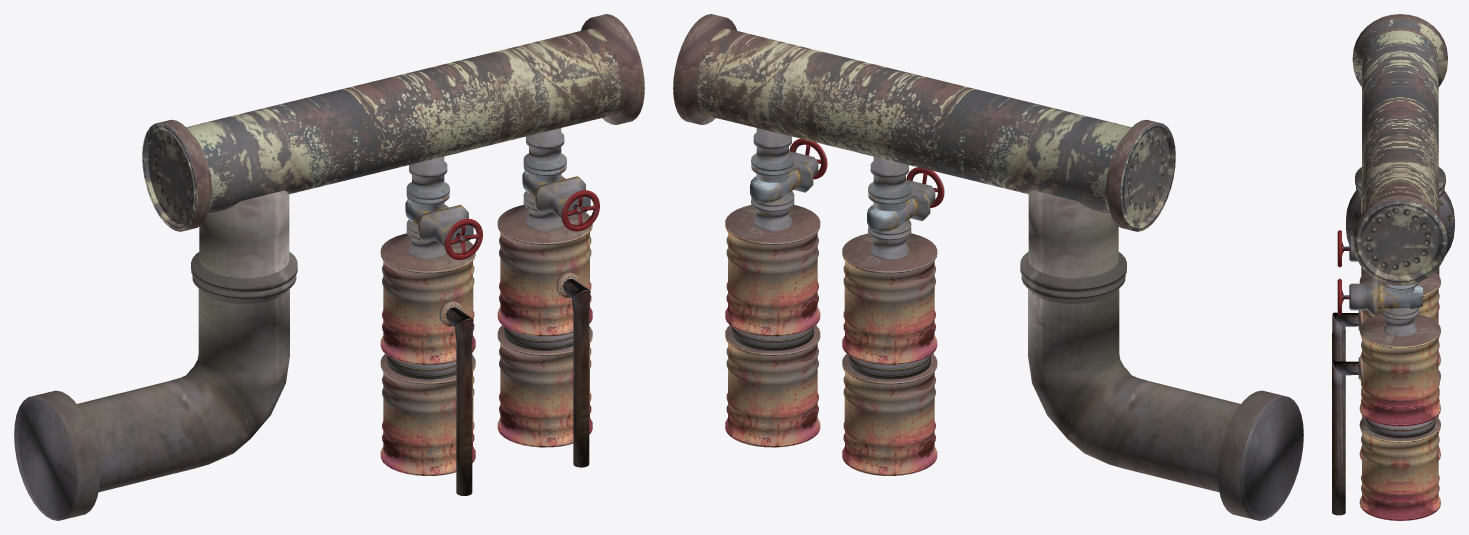
File: IndustrailTube.fbx
3 renders of one model, left to right at view 1: azimuth 30°, elevation 25°; view 2: azimuth 150°, elevation 25°; view 3: azimuth 270°, elevation 25°, orthographic. The views are drawn at different scales.
Parts seen in each view (by area): view 1: Cylinder.010; view 2: Cylinder.010; view 3: Cylinder.010.
Part boxes in pixels (box(x1,y1,x2,y2)): Cylinder.010: box(14, 14, 644, 520); Cylinder.010: box(673, 14, 1303, 520); Cylinder.010: box(1332, 14, 1454, 520).
Size of the model in its own units: 1464 by 987 by 320.
